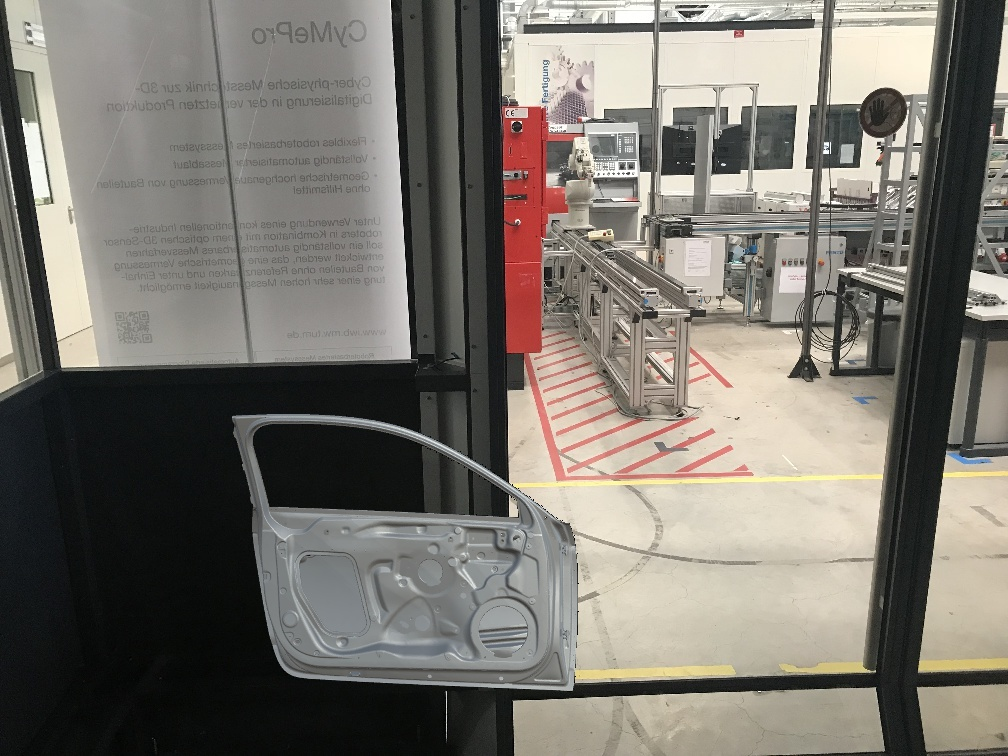car_door: (232, 414, 578, 691)
